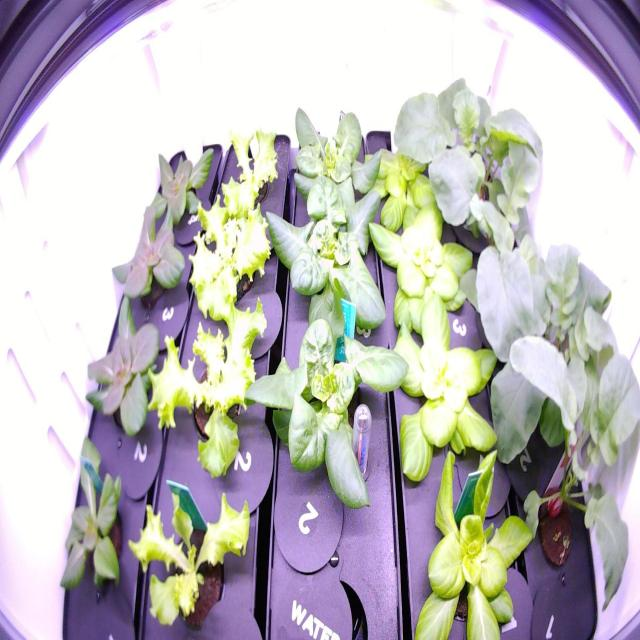young: (228, 273, 424, 522), (375, 269, 516, 492), (399, 424, 537, 638), (260, 170, 403, 352), (360, 184, 489, 352), (80, 284, 183, 450), (46, 430, 140, 611), (280, 98, 391, 232), (352, 109, 460, 236), (102, 191, 195, 330), (133, 124, 226, 250)
